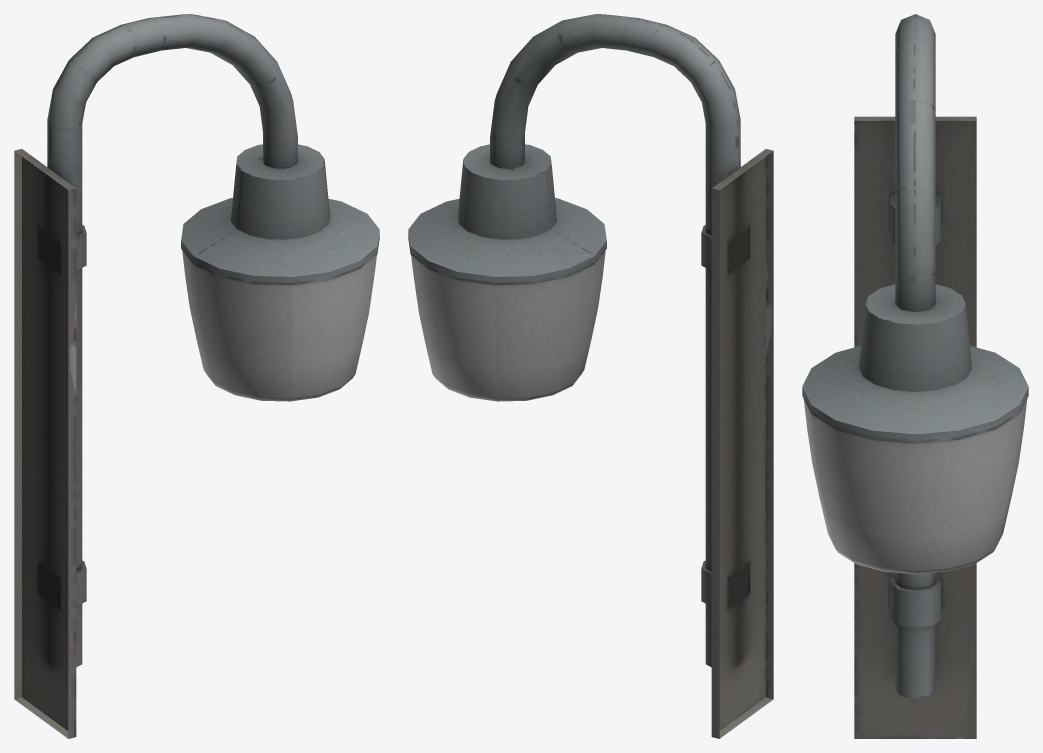
The picture shows the model from 3 angles, left to right: view 1: azimuth 30°, elevation 25°; view 2: azimuth 150°, elevation 25°; view 3: azimuth 270°, elevation 25°; orthographic projection. The views are drawn at different scales.
Parts seen in each view (by area): view 1: body0_model0_lod0_mesh0; view 2: body0_model0_lod0_mesh0; view 3: body0_model0_lod0_mesh0.
Boxes of the visible parts, bbox=[...] form: body0_model0_lod0_mesh0: bbox=[14, 14, 379, 738]; body0_model0_lod0_mesh0: bbox=[408, 14, 773, 738]; body0_model0_lod0_mesh0: bbox=[802, 14, 1028, 738].
Size of the model in its own units: 41.68 by 82.25 by 22.24.
Materials: 1 (1 with a texture image).
